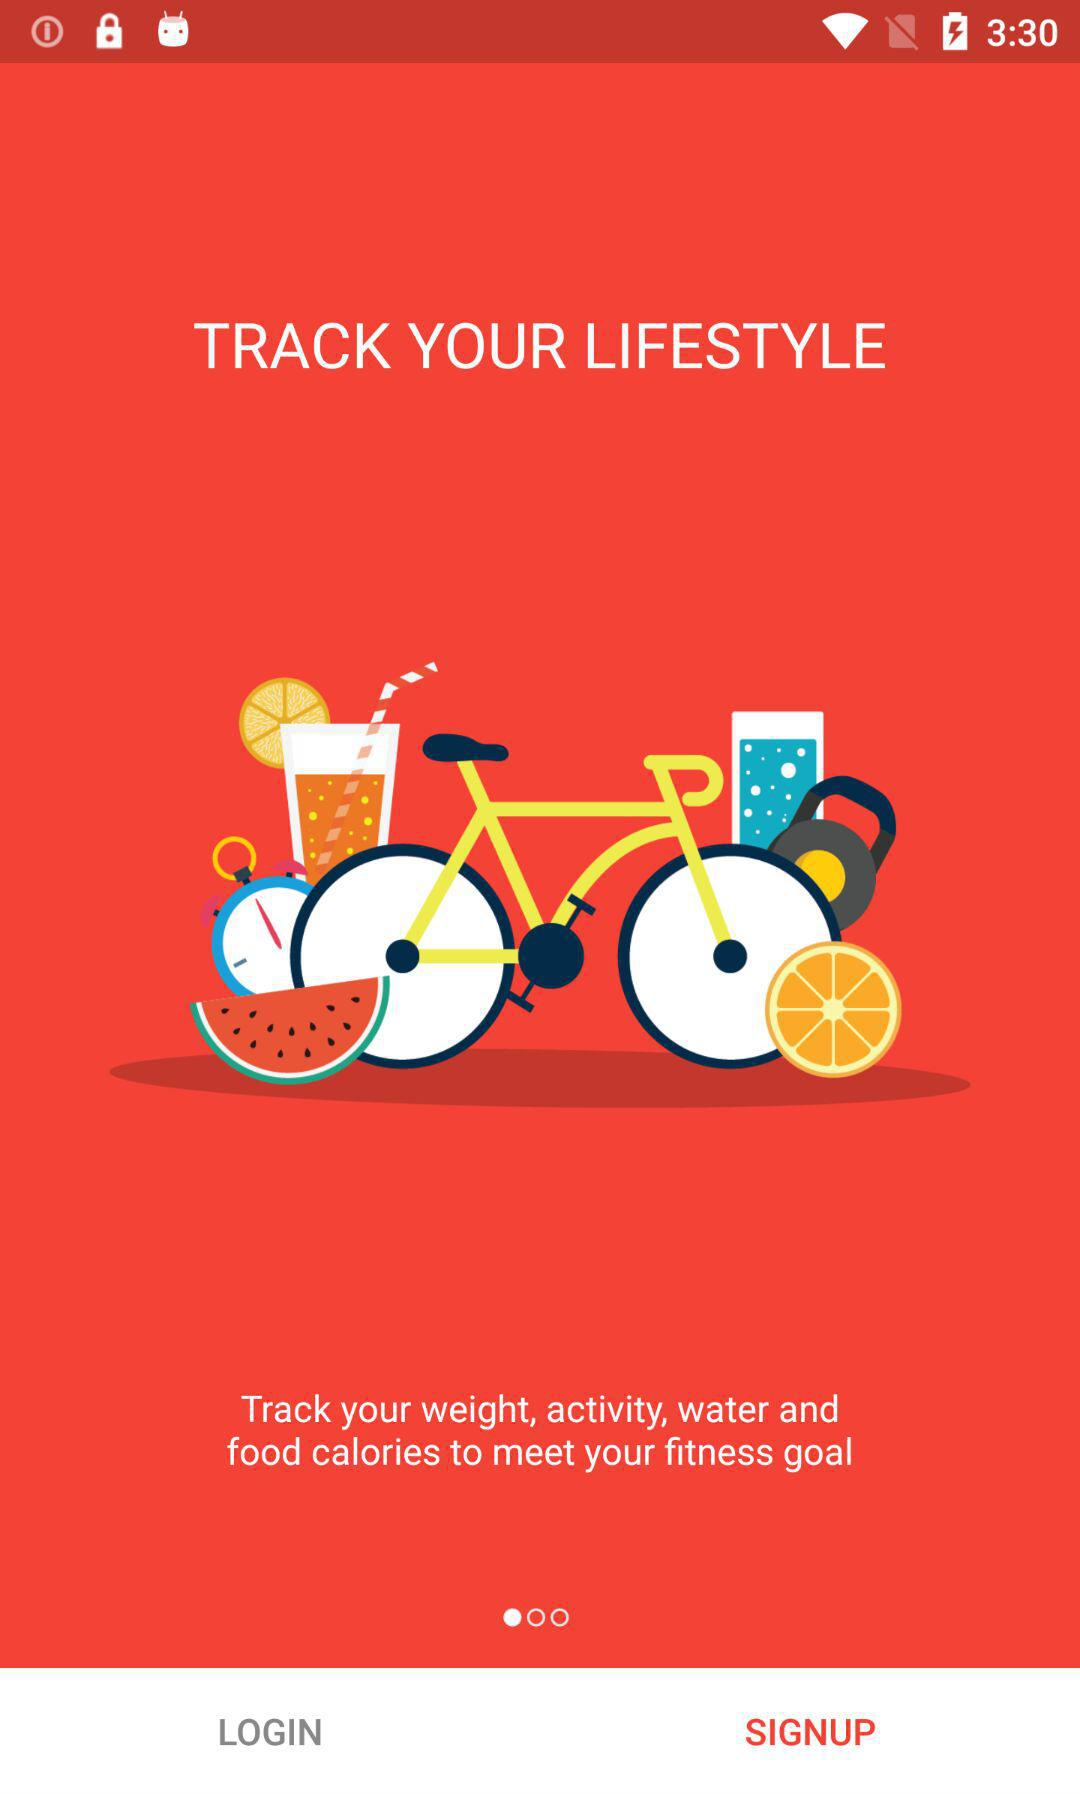Image: (108, 657, 970, 1108)
PageIndicator: (501, 1606, 571, 1631)
Text: (225, 1393, 853, 1474), (192, 322, 887, 372), (746, 1717, 878, 1748), (219, 1717, 323, 1747)
UpperTaskBar: (1, 1, 1080, 64)
